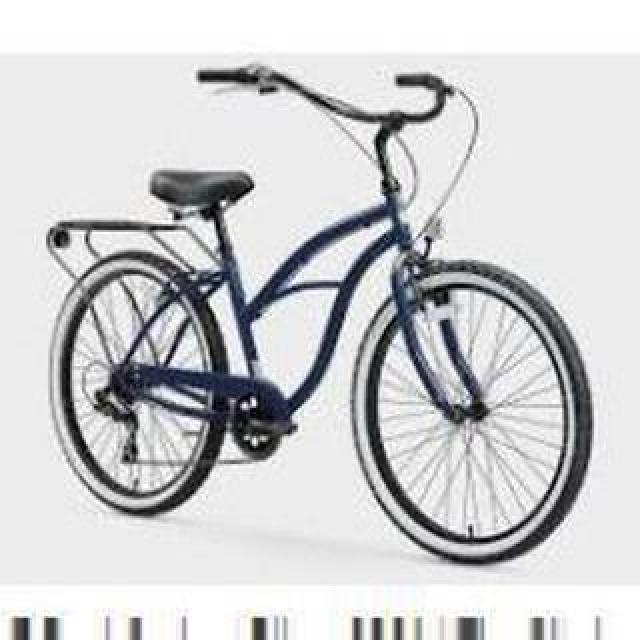Person: (28, 63, 604, 565)
